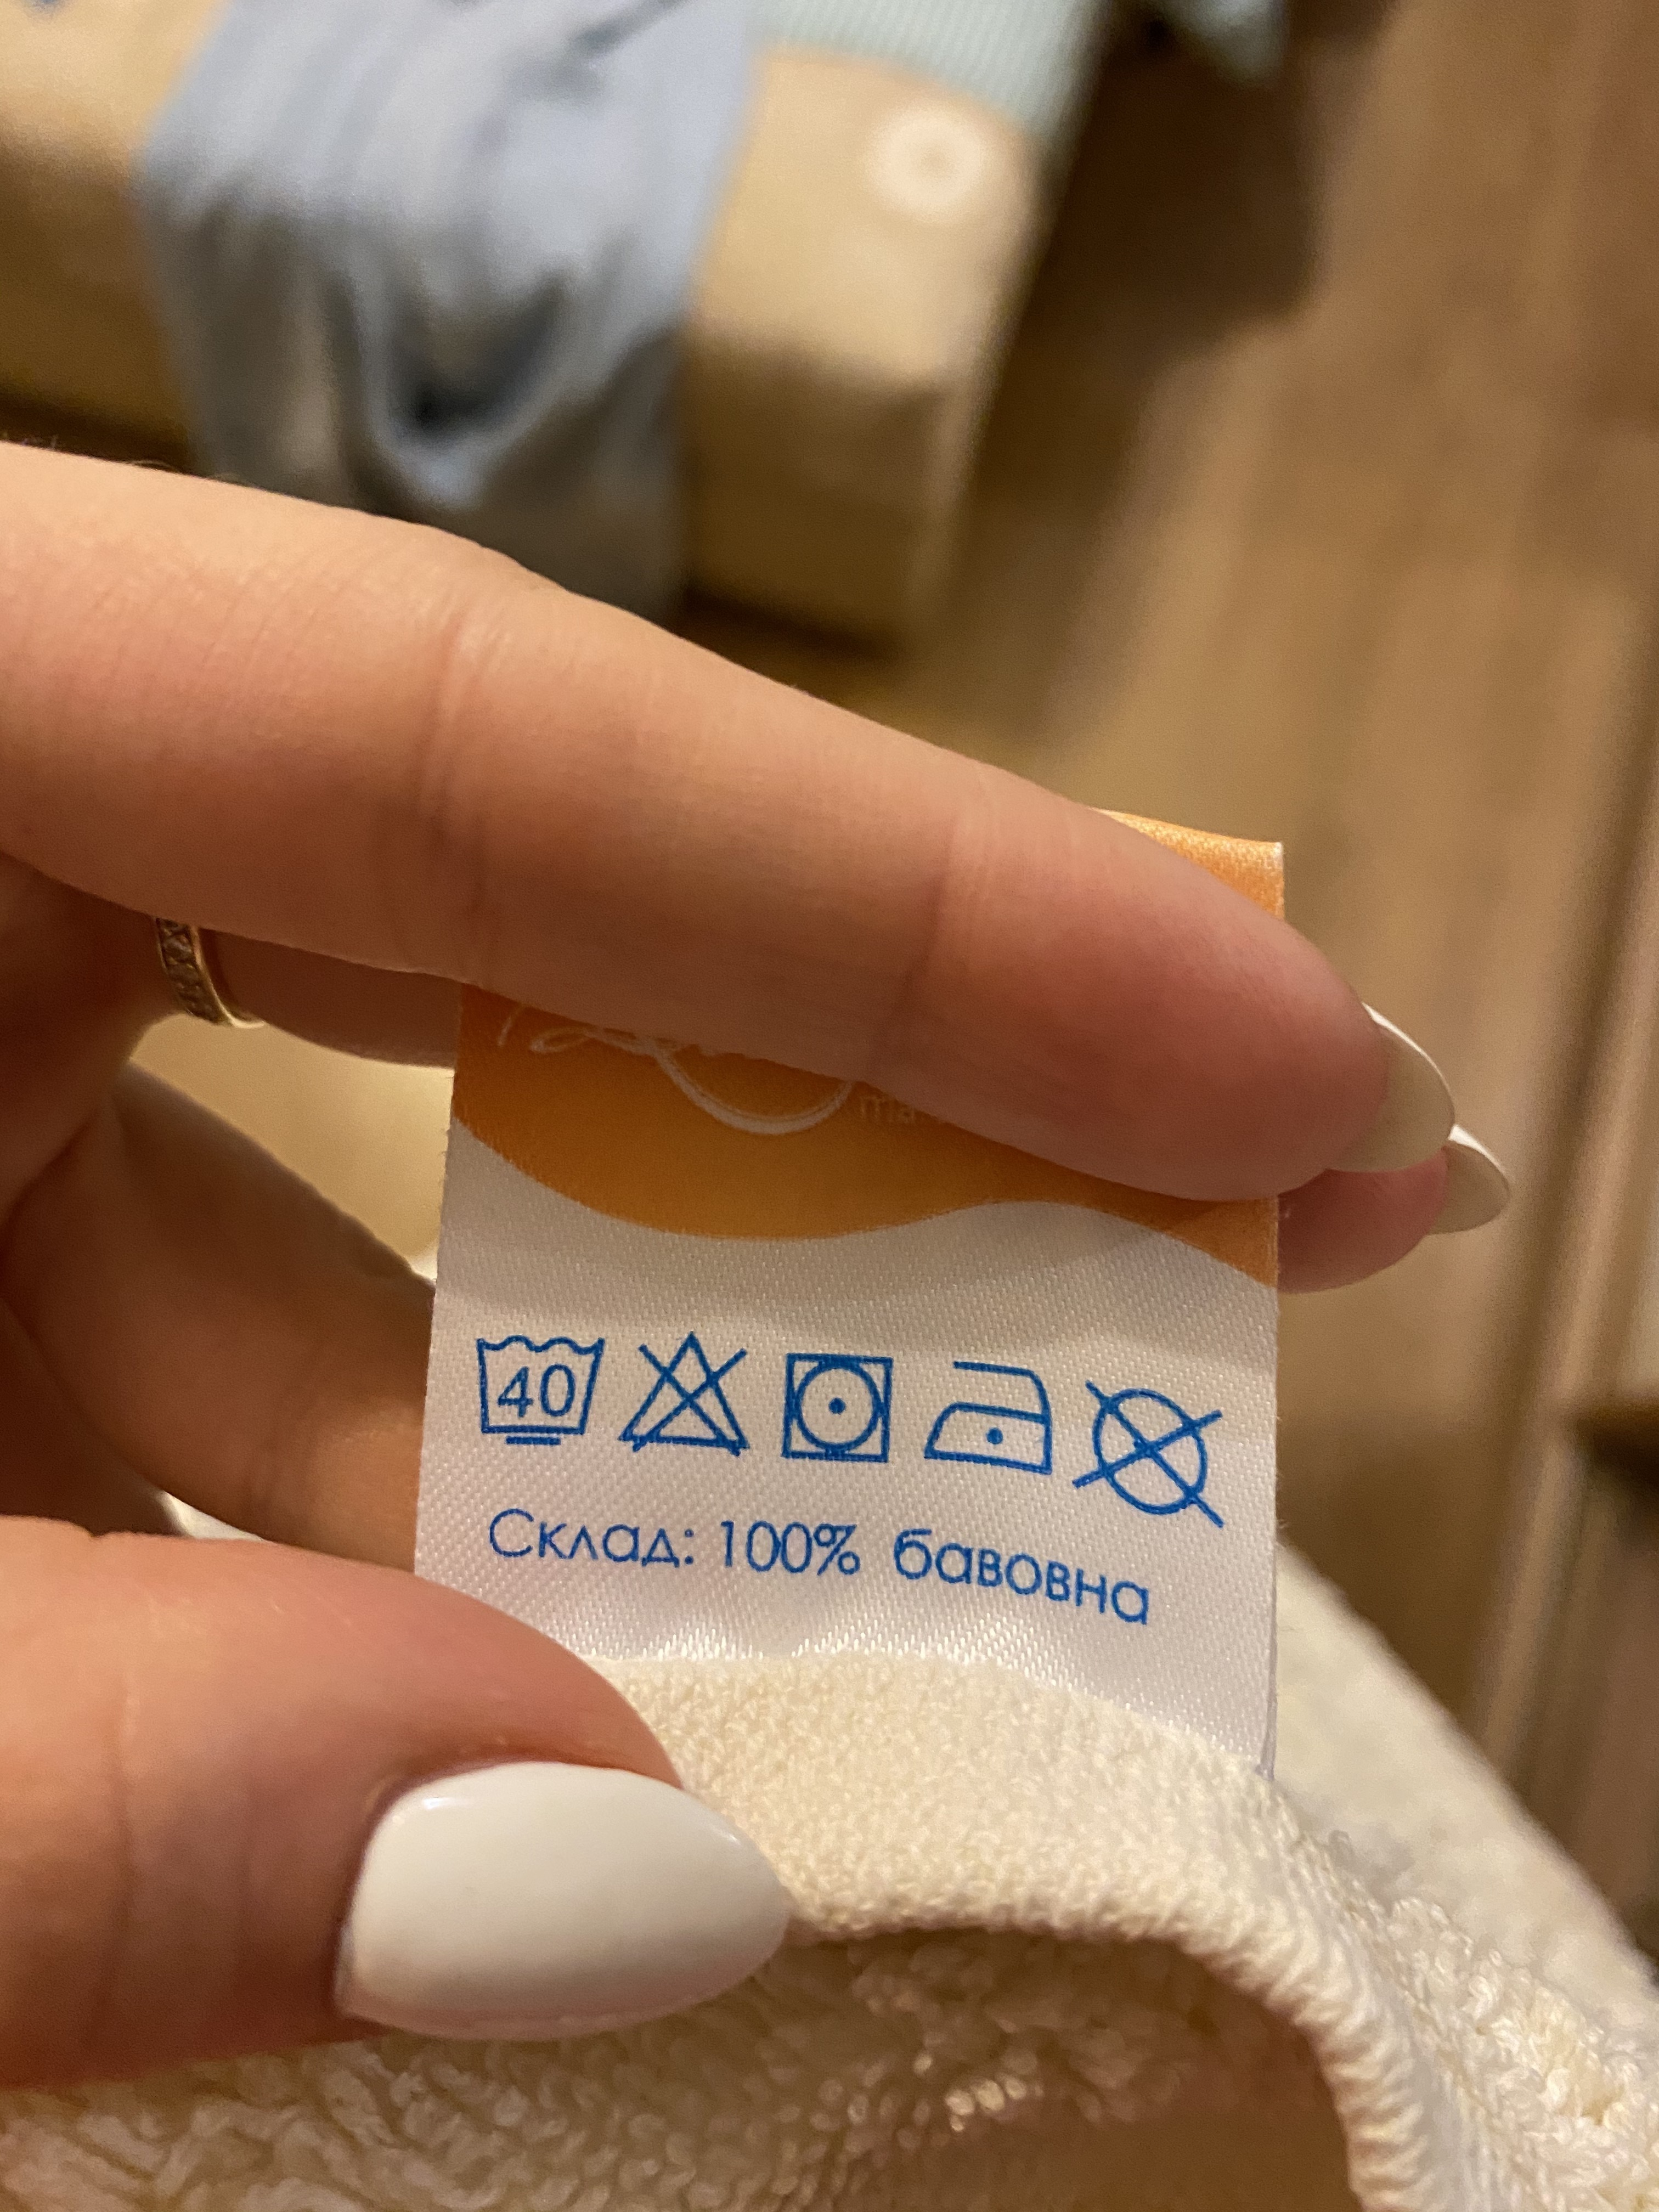do_not_bleach: (613, 1320, 753, 1465)
do_not_dry_clean: (1063, 1371, 1232, 1533)
ironing_at_low_temp: (924, 1352, 1056, 1475)
tumble_drying_low_temps: (774, 1343, 899, 1470)
wash_at_or_below_40_mild_fine_wash: (462, 1320, 615, 1454)
